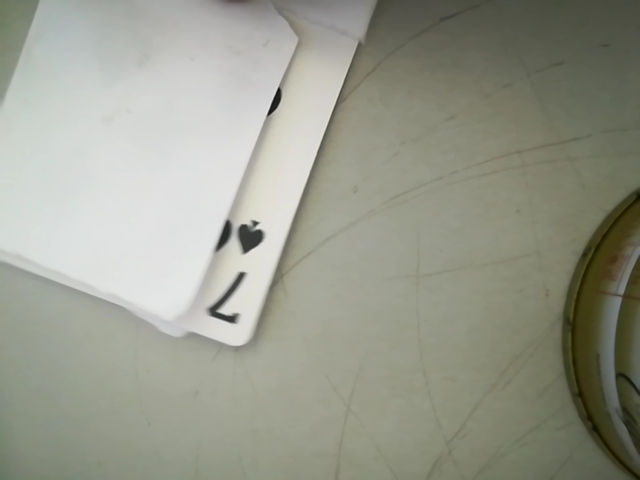ht 7: (203, 205, 274, 338)
